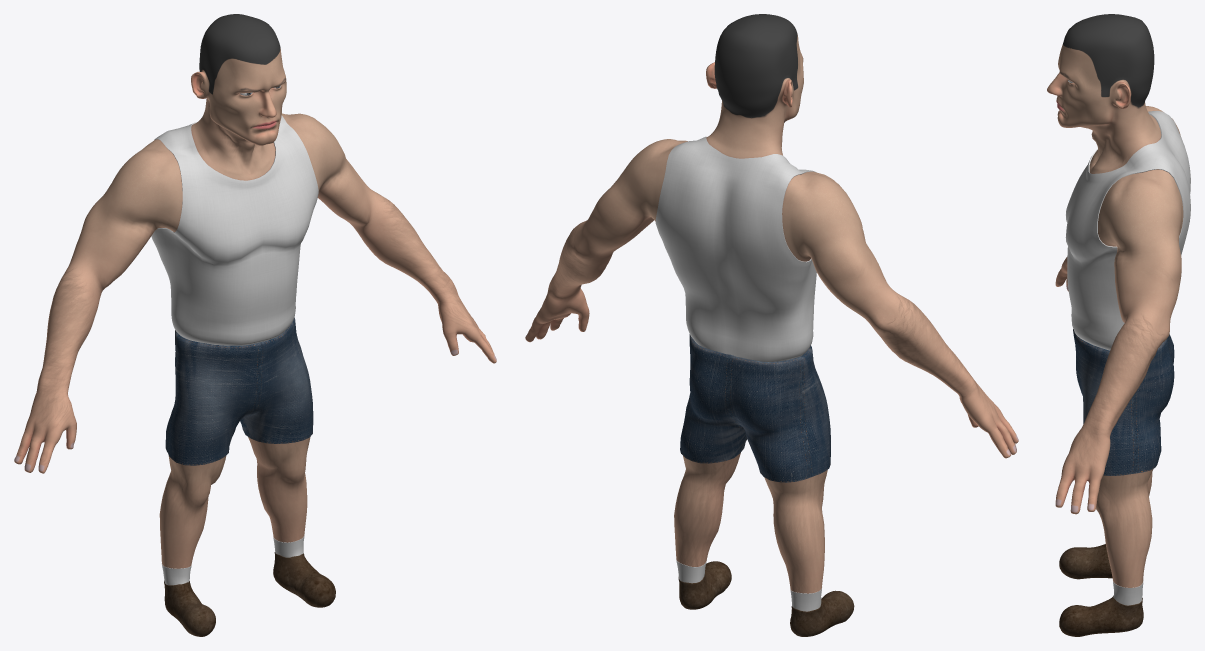
File: man.obj
The picture shows the model from 3 angles, left to right: view 1: azimuth 30°, elevation 25°; view 2: azimuth 150°, elevation 25°; view 3: azimuth 270°, elevation 25°; orthographic projection. The views are drawn at different scales.
Visible parts, largest first — view 1: man; view 2: man; view 3: man.
Boxes of the visible parts, x1=… form: man: x1=14, y1=14, x2=496, y2=636; man: x1=525, y1=14, x2=1018, y2=636; man: x1=1047, y1=14, x2=1190, y2=636.
Size of the model in its own units: 1.52 by 1.8 by 0.4003.
4 materials, 4 textured.
